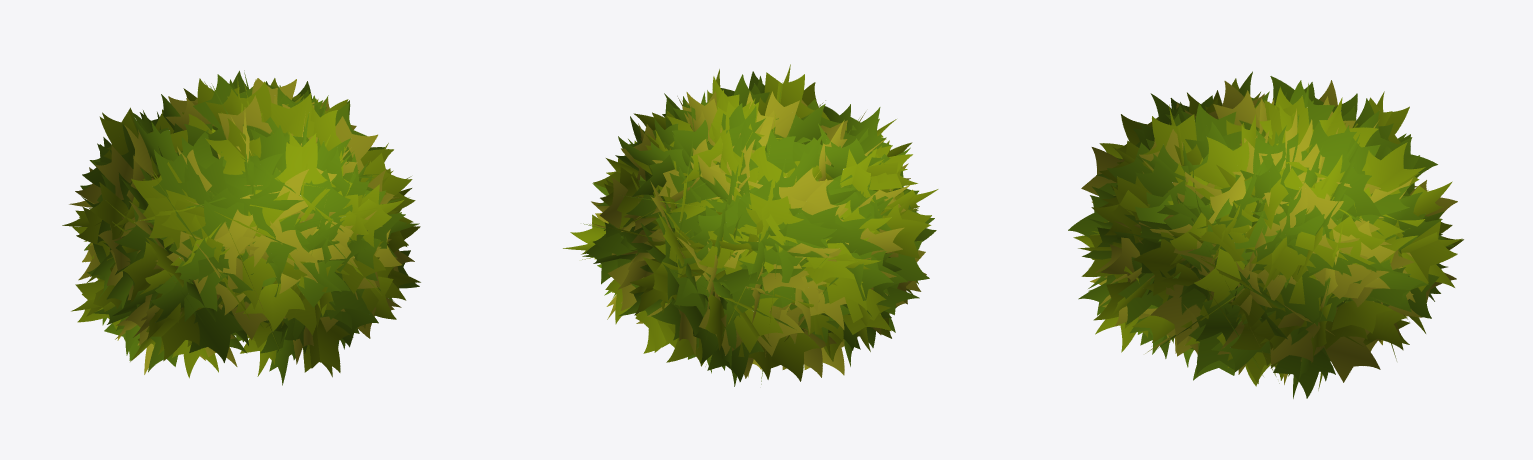
File: bushes (1).fbx
3 views of the same model, side by side, from view 1: azimuth 30°, elevation 25°; view 2: azimuth 150°, elevation 25°; view 3: azimuth 270°, elevation 25° (orthographic). The views are drawn at different scales.
Parts seen in each view (by area): view 1: Leaves; view 2: Leaves; view 3: Leaves.
Boxes of the visible parts, x1,y1,x2,y2 form: Leaves: (62,70,420,385); Leaves: (563,64,938,386); Leaves: (1068,71,1463,398).
Size of the model in its own units: 351 by 294 by 349.
